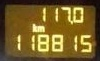-: (69, 20, 72, 24)
0: (72, 6, 83, 22)
1: (72, 33, 78, 52), (15, 33, 21, 50), (29, 33, 35, 50), (52, 5, 58, 21), (40, 6, 45, 21)
7: (59, 5, 70, 21)
8: (36, 33, 49, 51), (50, 33, 63, 51)
X: (31, 22, 37, 32), (37, 24, 44, 32)
